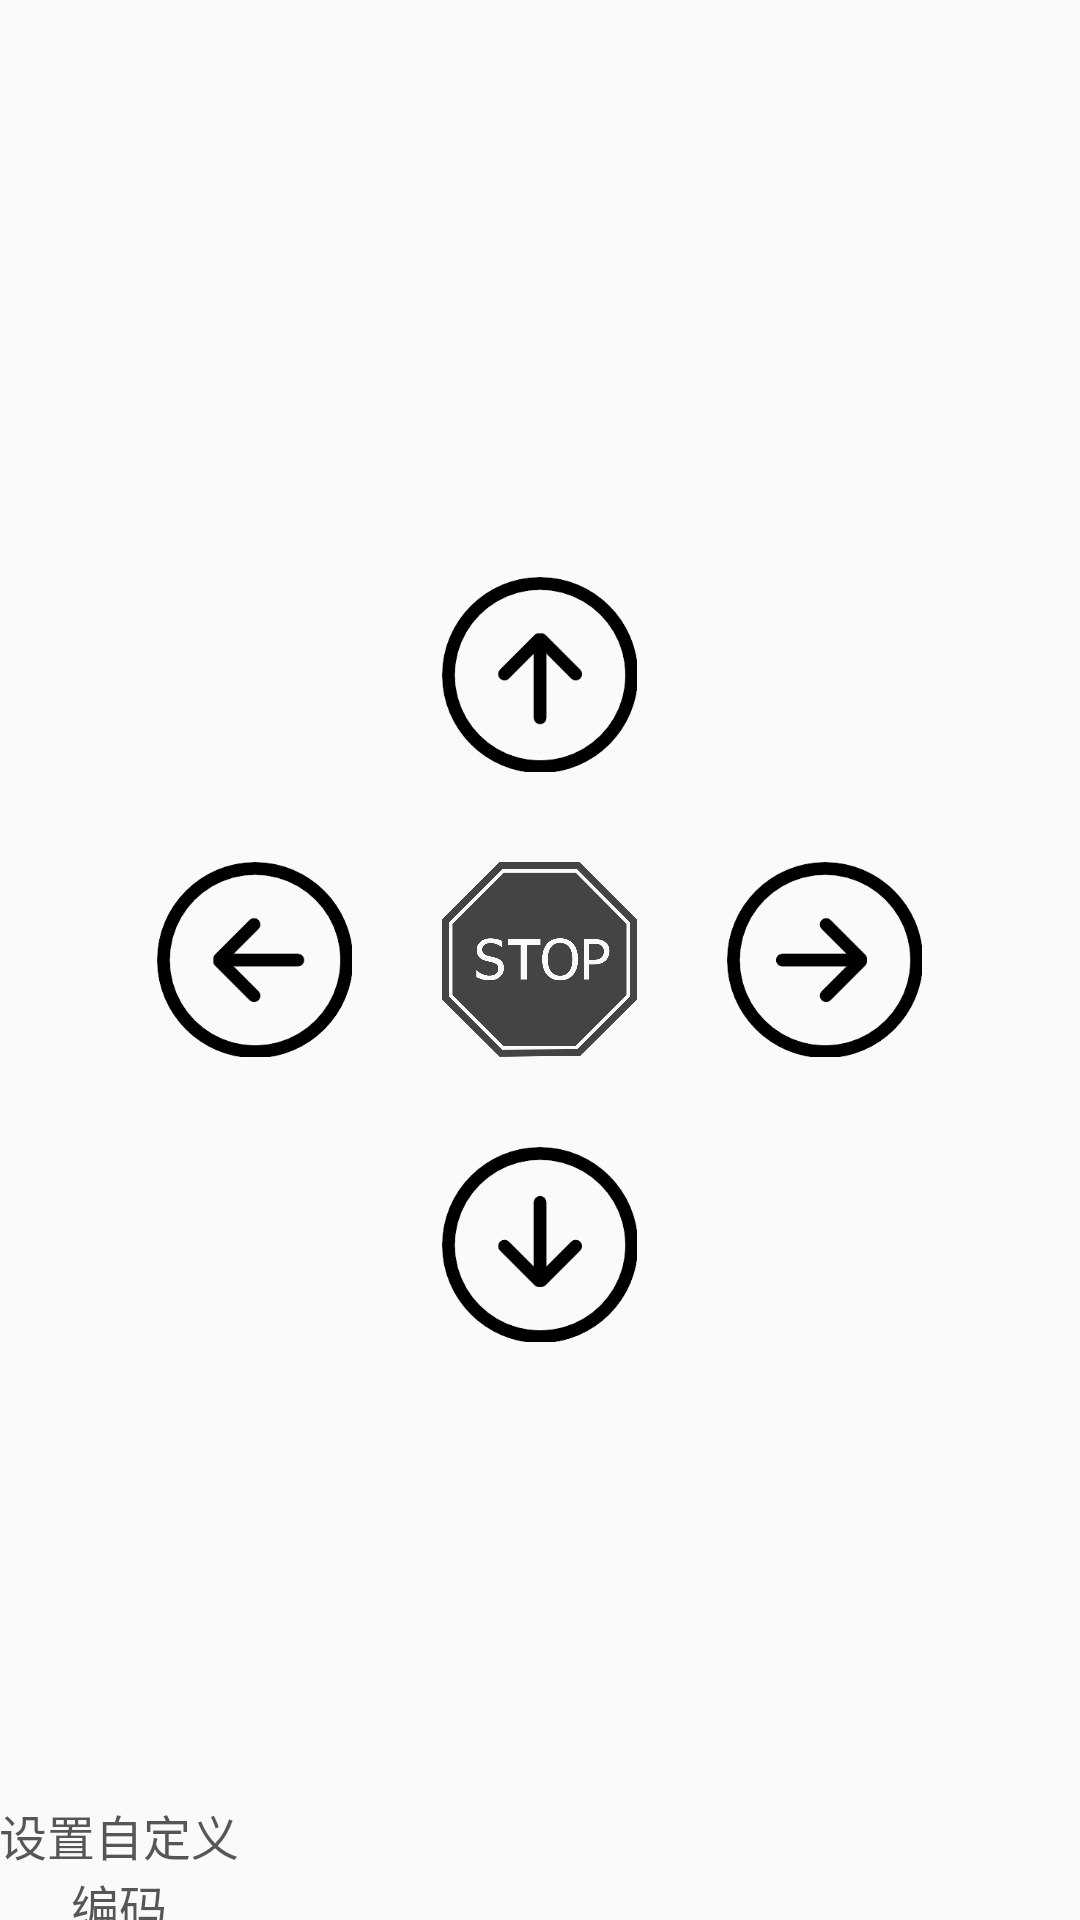

Where to tap for icons on this 1080 x 1920 app screen, as (x=x, y=y):
left: (x=254, y=959)
right: (x=824, y=959)
